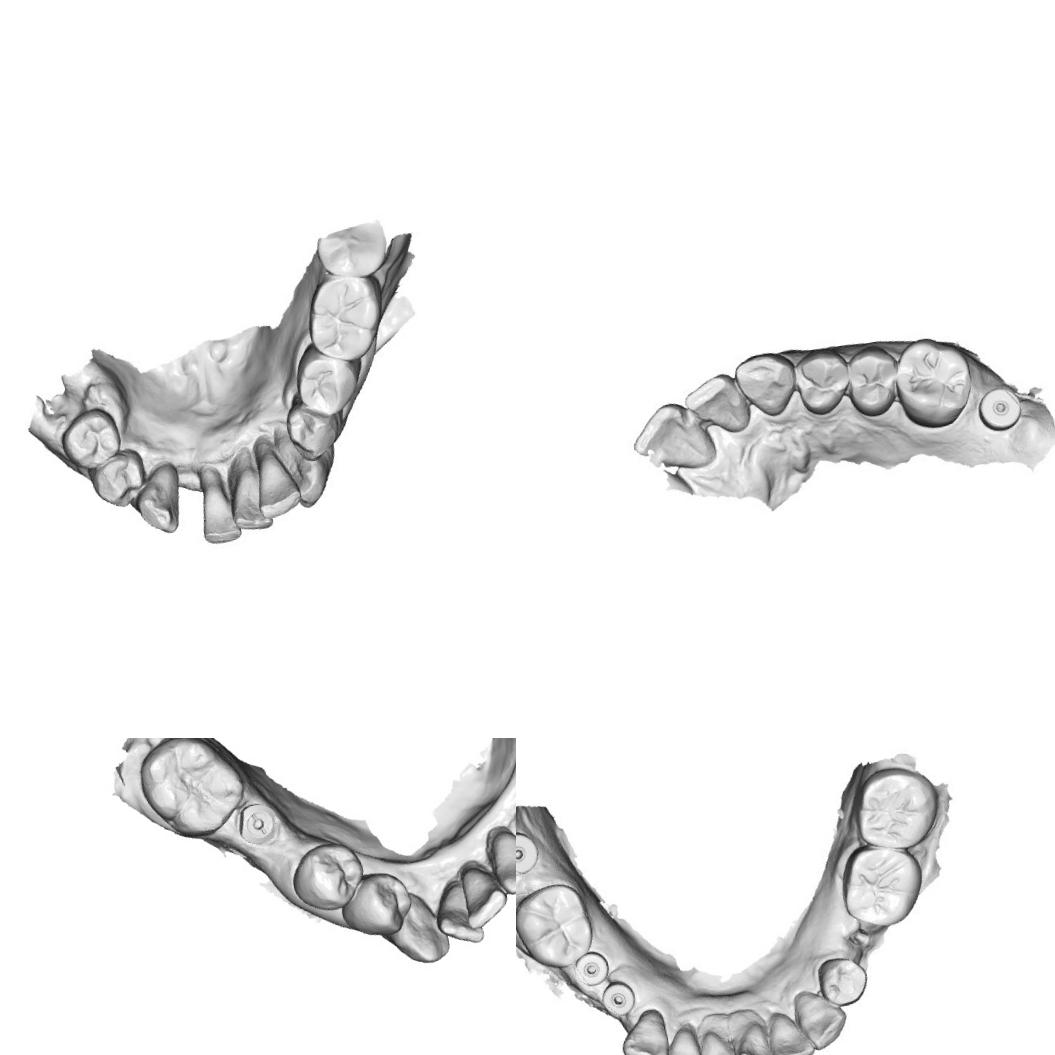canine: (380, 888, 452, 972), (274, 426, 336, 509), (731, 349, 799, 421), (792, 981, 854, 1054), (128, 466, 187, 538), (613, 1004, 677, 1055)
implant: (976, 384, 1024, 434), (596, 976, 639, 1020), (570, 946, 610, 988), (516, 823, 542, 876)
implant_minus: (232, 796, 281, 848)
incisor: (624, 395, 716, 478), (686, 372, 756, 444), (430, 874, 488, 949), (220, 451, 274, 531), (190, 466, 239, 548), (456, 861, 511, 932), (251, 440, 302, 516), (481, 818, 516, 899), (762, 1007, 813, 1055), (653, 1020, 706, 1055), (732, 1015, 775, 1055), (695, 1027, 740, 1055)
molar: (131, 738, 252, 845), (882, 328, 984, 434), (830, 835, 930, 935), (300, 270, 386, 364), (516, 875, 598, 973), (852, 767, 940, 851), (297, 346, 359, 418)
premolar: (283, 835, 370, 919), (334, 866, 412, 942), (790, 346, 854, 419), (841, 346, 901, 419), (60, 410, 118, 472), (814, 950, 871, 1011), (285, 402, 344, 460), (91, 453, 144, 510)
